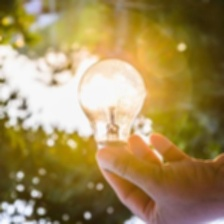light_bulb: (72, 55, 151, 175)
